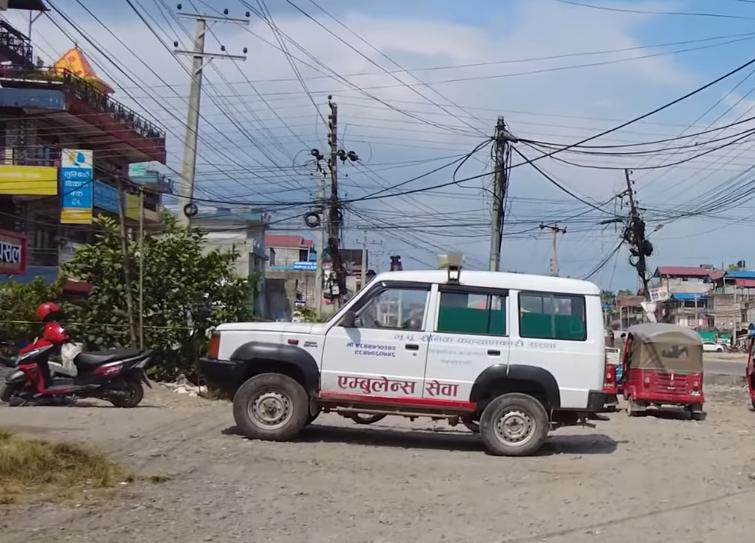ambulance: (202, 242, 618, 464)
auto_rickshaw: (618, 321, 711, 422)
scooter: (0, 319, 157, 416)
